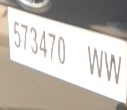0: (56, 36, 67, 64)
3: (30, 25, 39, 55)
4: (39, 27, 48, 58)
5: (11, 20, 21, 49)
7: (48, 32, 57, 61), (22, 22, 29, 51)
w: (83, 45, 104, 79), (104, 49, 124, 83)
